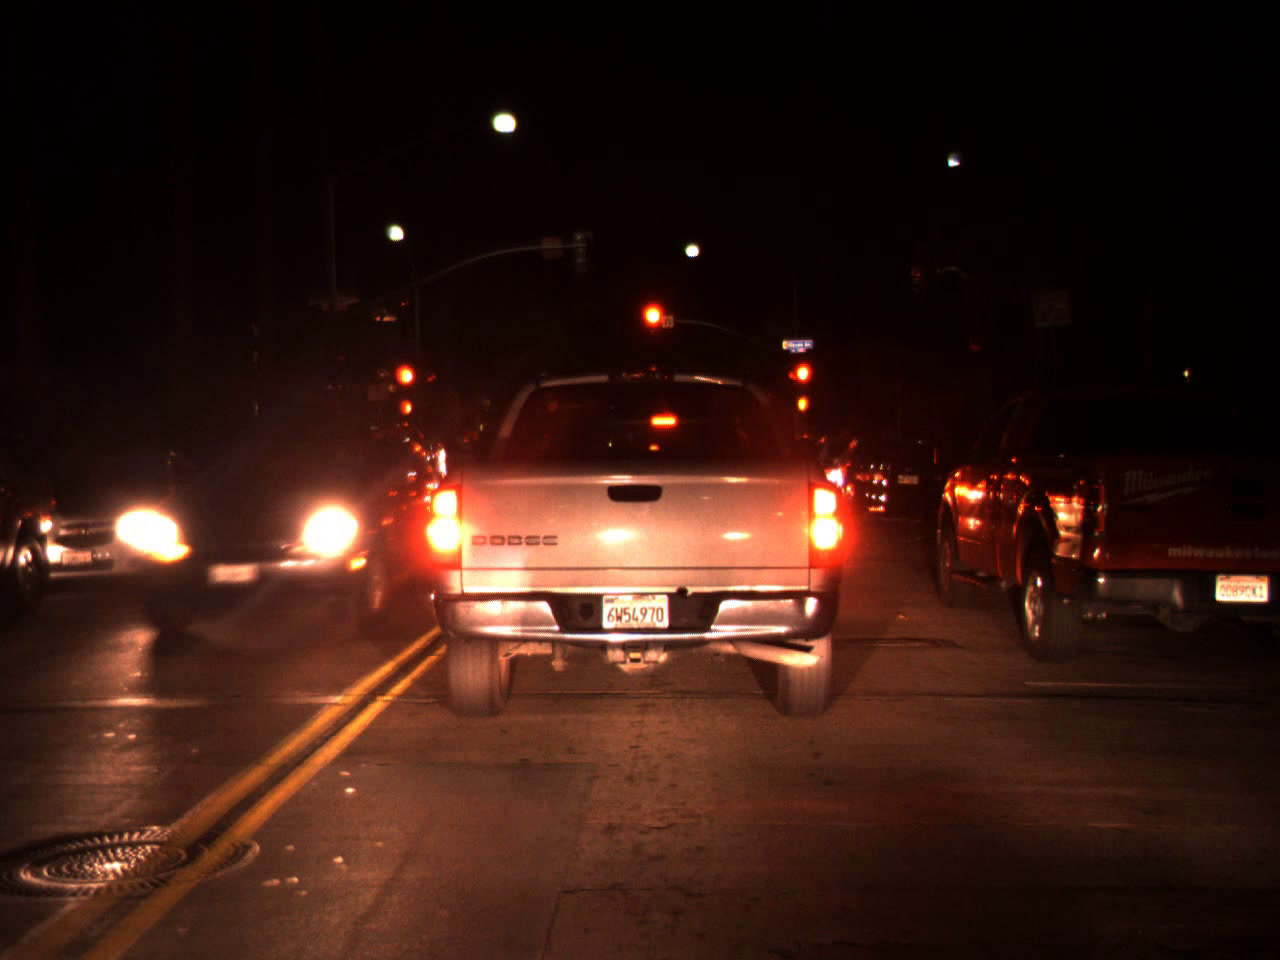stop: (637, 298, 670, 360), (784, 359, 817, 407), (392, 361, 417, 409)
